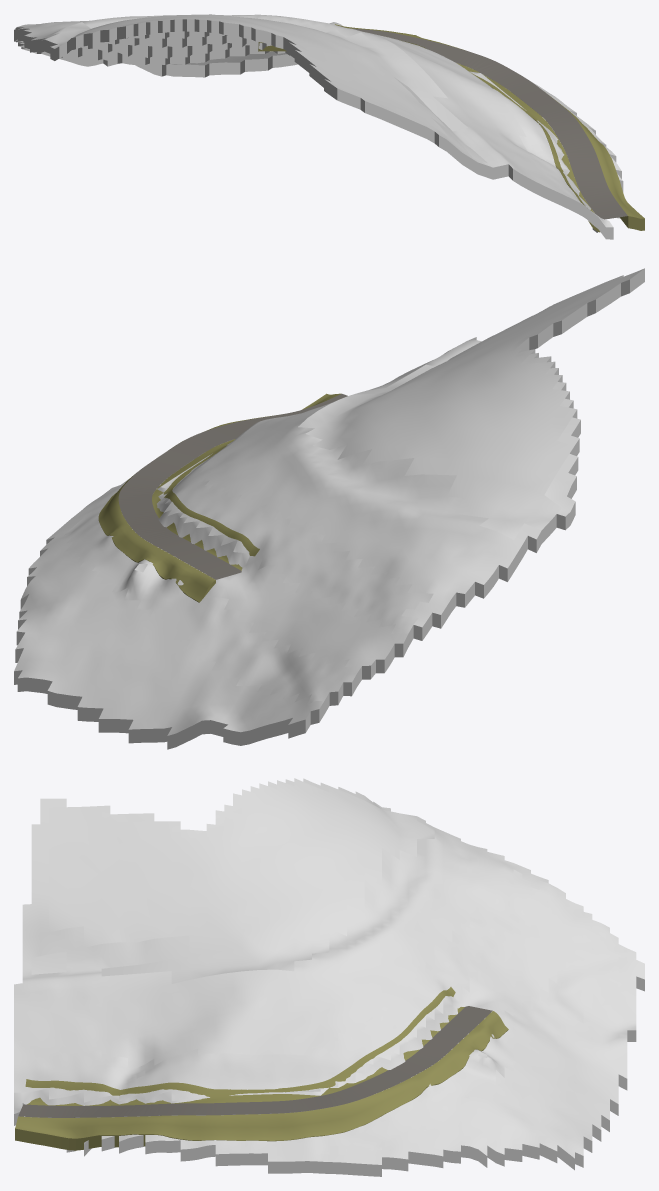
The model's file is conz_131.glb.
3 renders of one model, top to bottom at view 1: azimuth 30°, elevation 25°; view 2: azimuth 150°, elevation 25°; view 3: azimuth 270°, elevation 25°, orthographic. The views are drawn at different scales.
Parts seen in each view (by area): view 1: terrain131, road131, verge131R, verge131L; view 2: terrain131, road131, verge131R, verge131L; view 3: terrain131, verge131R, road131, verge131L.
Boxes of the visible parts, left/top/right/bottom form: terrain131: left=14, top=14, right=623, bottom=239; road131: left=350, top=28, right=627, bottom=219; verge131R: left=335, top=24, right=644, bottom=230; verge131L: left=258, top=40, right=599, bottom=232; terrain131: left=14, top=268, right=644, bottom=749; road131: left=118, top=394, right=347, bottom=579; verge131R: left=98, top=393, right=341, bottom=602; verge131L: left=152, top=439, right=259, bottom=570; terrain131: left=14, top=778, right=644, bottom=1176; verge131R: left=15, top=1011, right=508, bottom=1150; road131: left=18, top=1006, right=492, bottom=1117; verge131L: left=25, top=987, right=464, bottom=1117.
Bounding box in the file's own units: 120 × 60.76 × 144.
